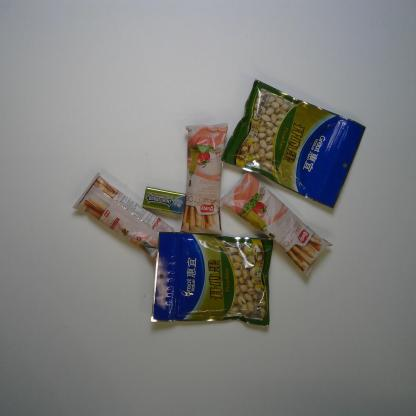Dessert: (219, 171, 336, 281), (67, 171, 174, 269), (179, 122, 229, 238)
Dried Fruit: (218, 76, 369, 212), (147, 228, 273, 329)
Gum: (142, 184, 187, 215)
